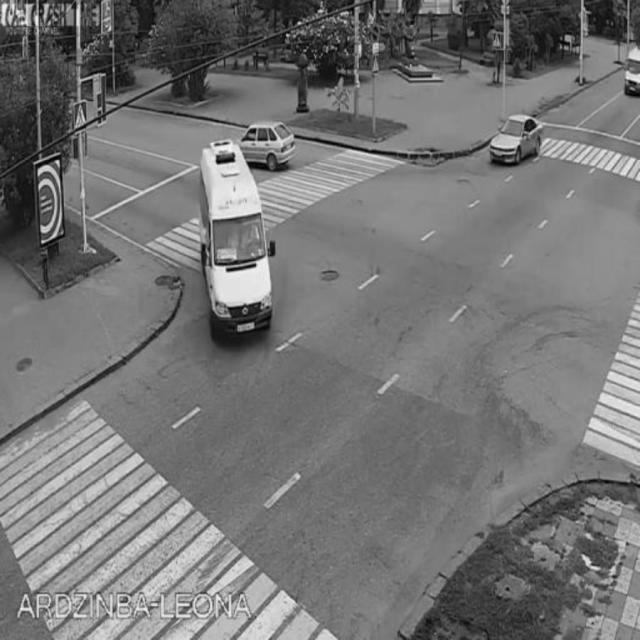vehicle: (201, 154, 274, 341), (486, 109, 542, 170), (238, 122, 294, 166), (624, 45, 640, 100)
